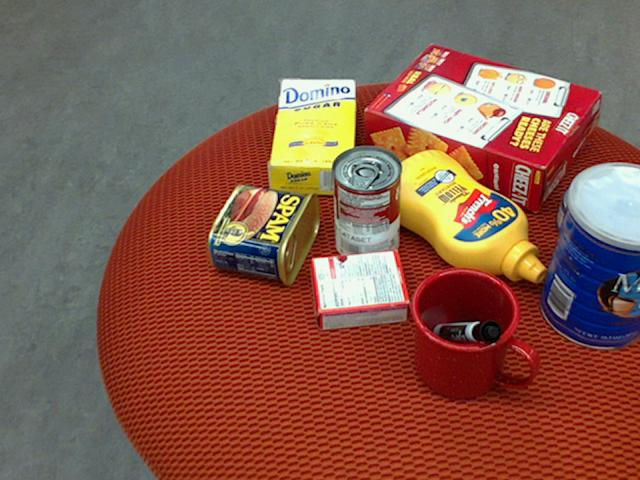cracker_box: (363, 43, 599, 210)
gelatin_box: (306, 252, 407, 331)
large_marker: (433, 319, 501, 342)
master_chef_can: (538, 161, 639, 349)
mug: (408, 267, 535, 400)
mustard_bottle: (375, 149, 545, 283)
potted_meat_can: (206, 184, 319, 285)
sugar_box: (268, 78, 355, 196)
tomato_soup_can: (330, 143, 401, 264)
tuna_fish_can: (555, 177, 639, 255)
